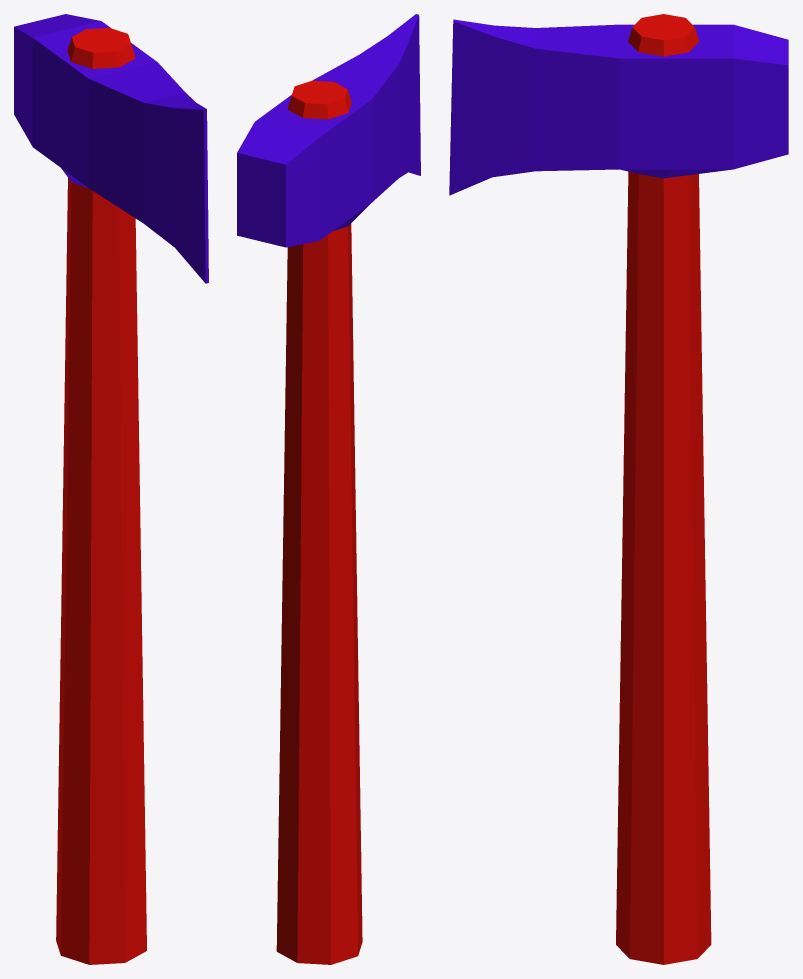
File: Axe.fbx
3 views of the same model, side by side, from view 1: azimuth 30°, elevation 25°; view 2: azimuth 150°, elevation 25°; view 3: azimuth 270°, elevation 25° (orthographic). The views are drawn at different scales.
Visible parts, largest first — view 1: Cylinder; view 2: Cylinder; view 3: Cylinder.
Part boxes in pixels (bbox=[...]): Cylinder: bbox=[14, 14, 208, 964]; Cylinder: bbox=[237, 14, 420, 964]; Cylinder: bbox=[449, 14, 788, 964].
Size of the model in its own units: 189 by 2016 by 671.
